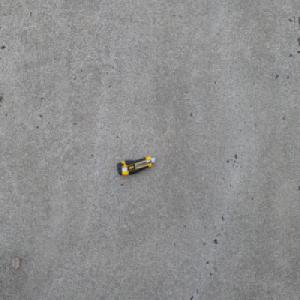Cutter: (116, 156, 155, 176)
